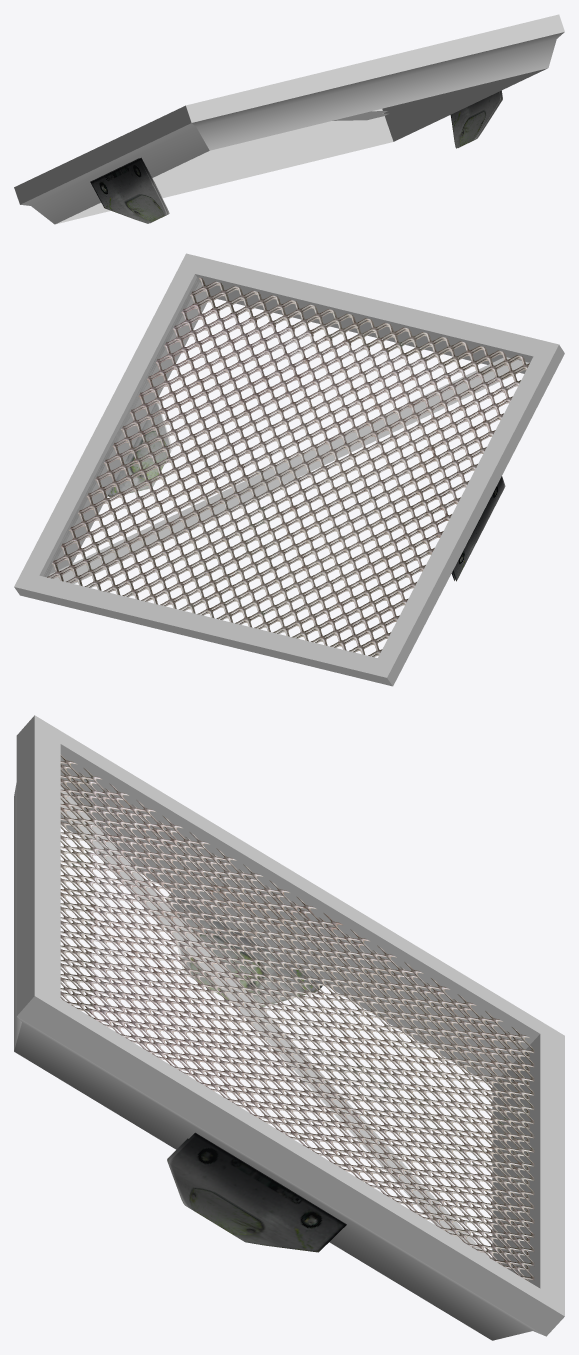
The model's file is Floor_F_2'5qmts_19.fbx.
3 views of the same model, one above another, from view 1: azimuth 30°, elevation 25°; view 2: azimuth 150°, elevation 25°; view 3: azimuth 270°, elevation 25° (orthographic). The views are drawn at different scales.
Parts seen in each view (by area): view 1: frame_, details_; view 2: grid_, frame_, details_; view 3: frame_, grid_, details_.
Boxes of the visible parts, left/top/right/bottom form: frame_: left=14, top=14, right=564, bottom=224; details_: left=90, top=90, right=502, bottom=223; grid_: left=43, top=277, right=529, bottom=657; frame_: left=14, top=253, right=564, bottom=686; details_: left=107, top=403, right=505, bottom=581; frame_: left=14, top=715, right=564, bottom=1340; grid_: left=60, top=754, right=534, bottom=1281; details_: left=167, top=892, right=346, bottom=1252.
Bounding box in the file's own units: 251 × 149 × 208.
